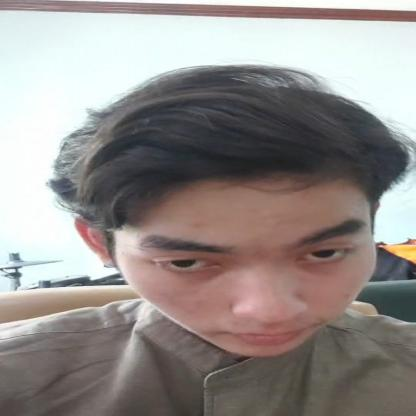Palm: (30, 56, 415, 376)
